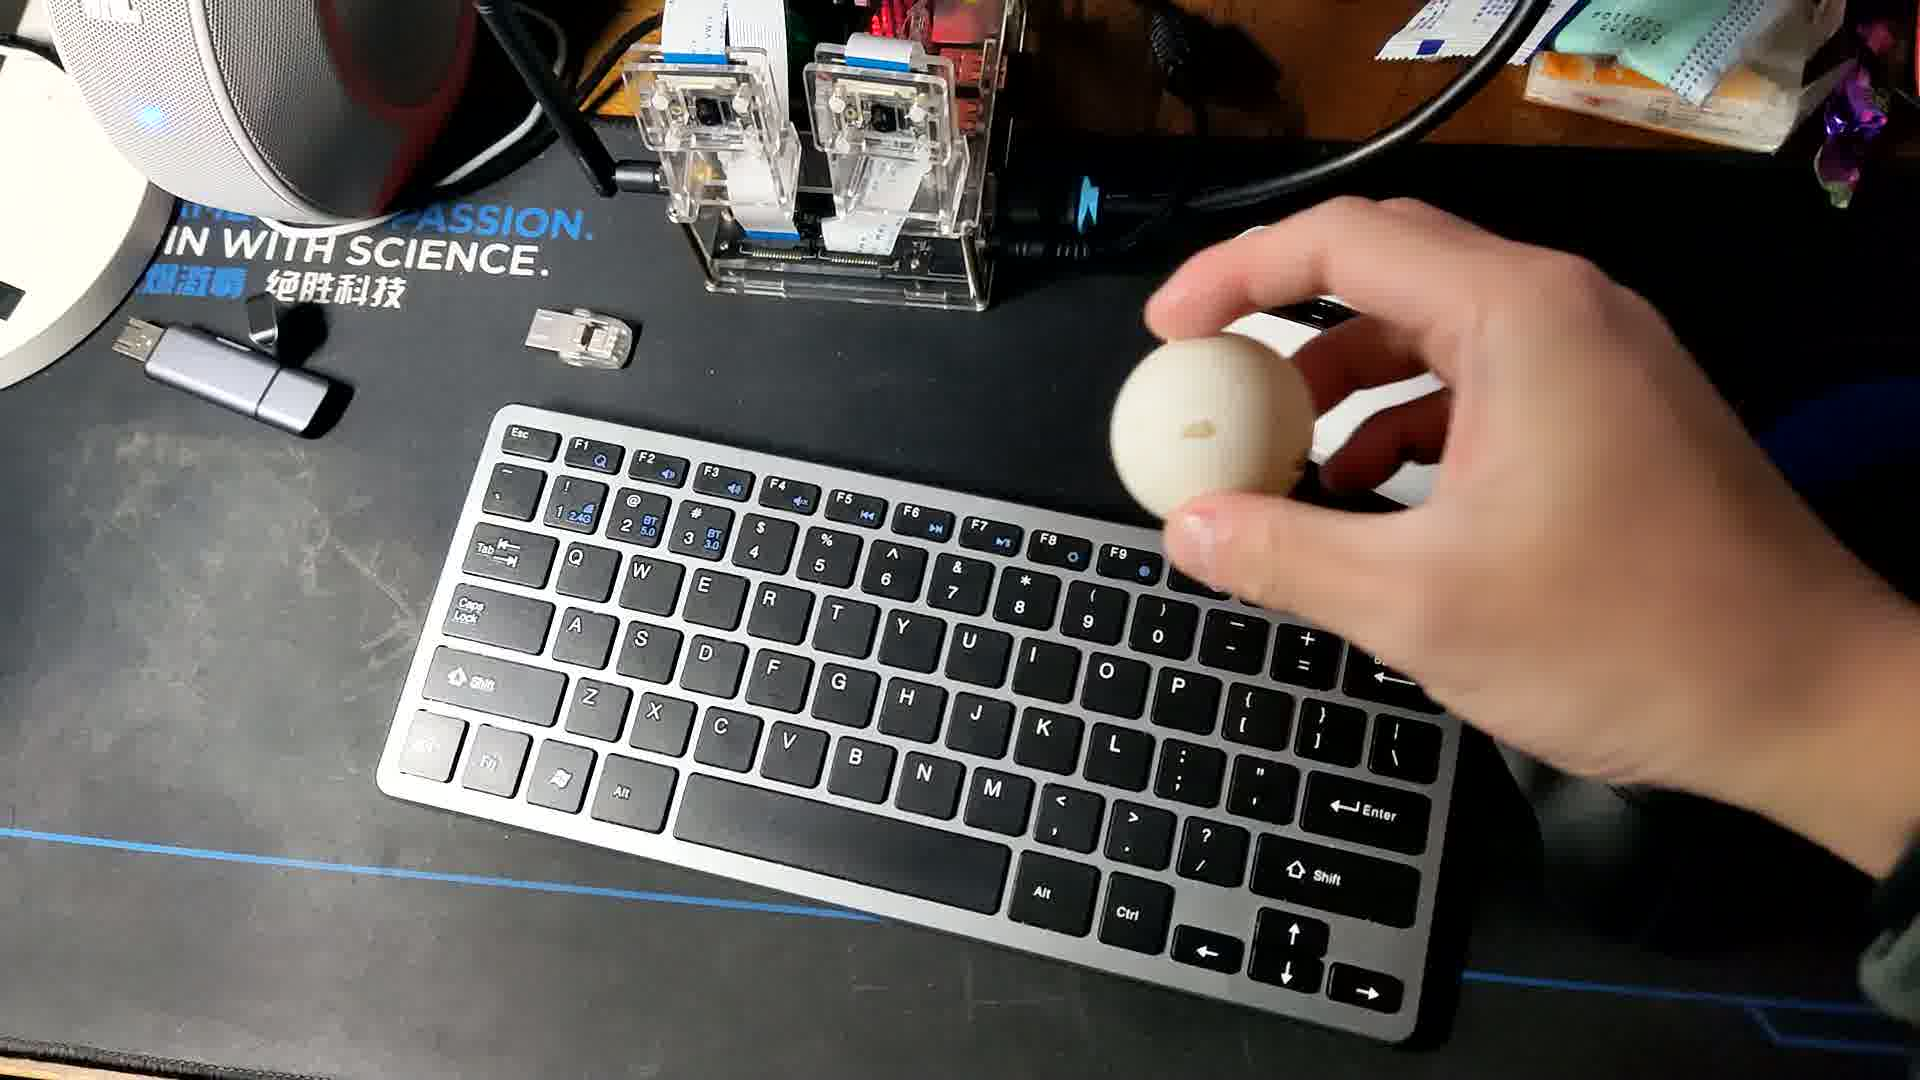Ball: (1106, 328, 1315, 526)
